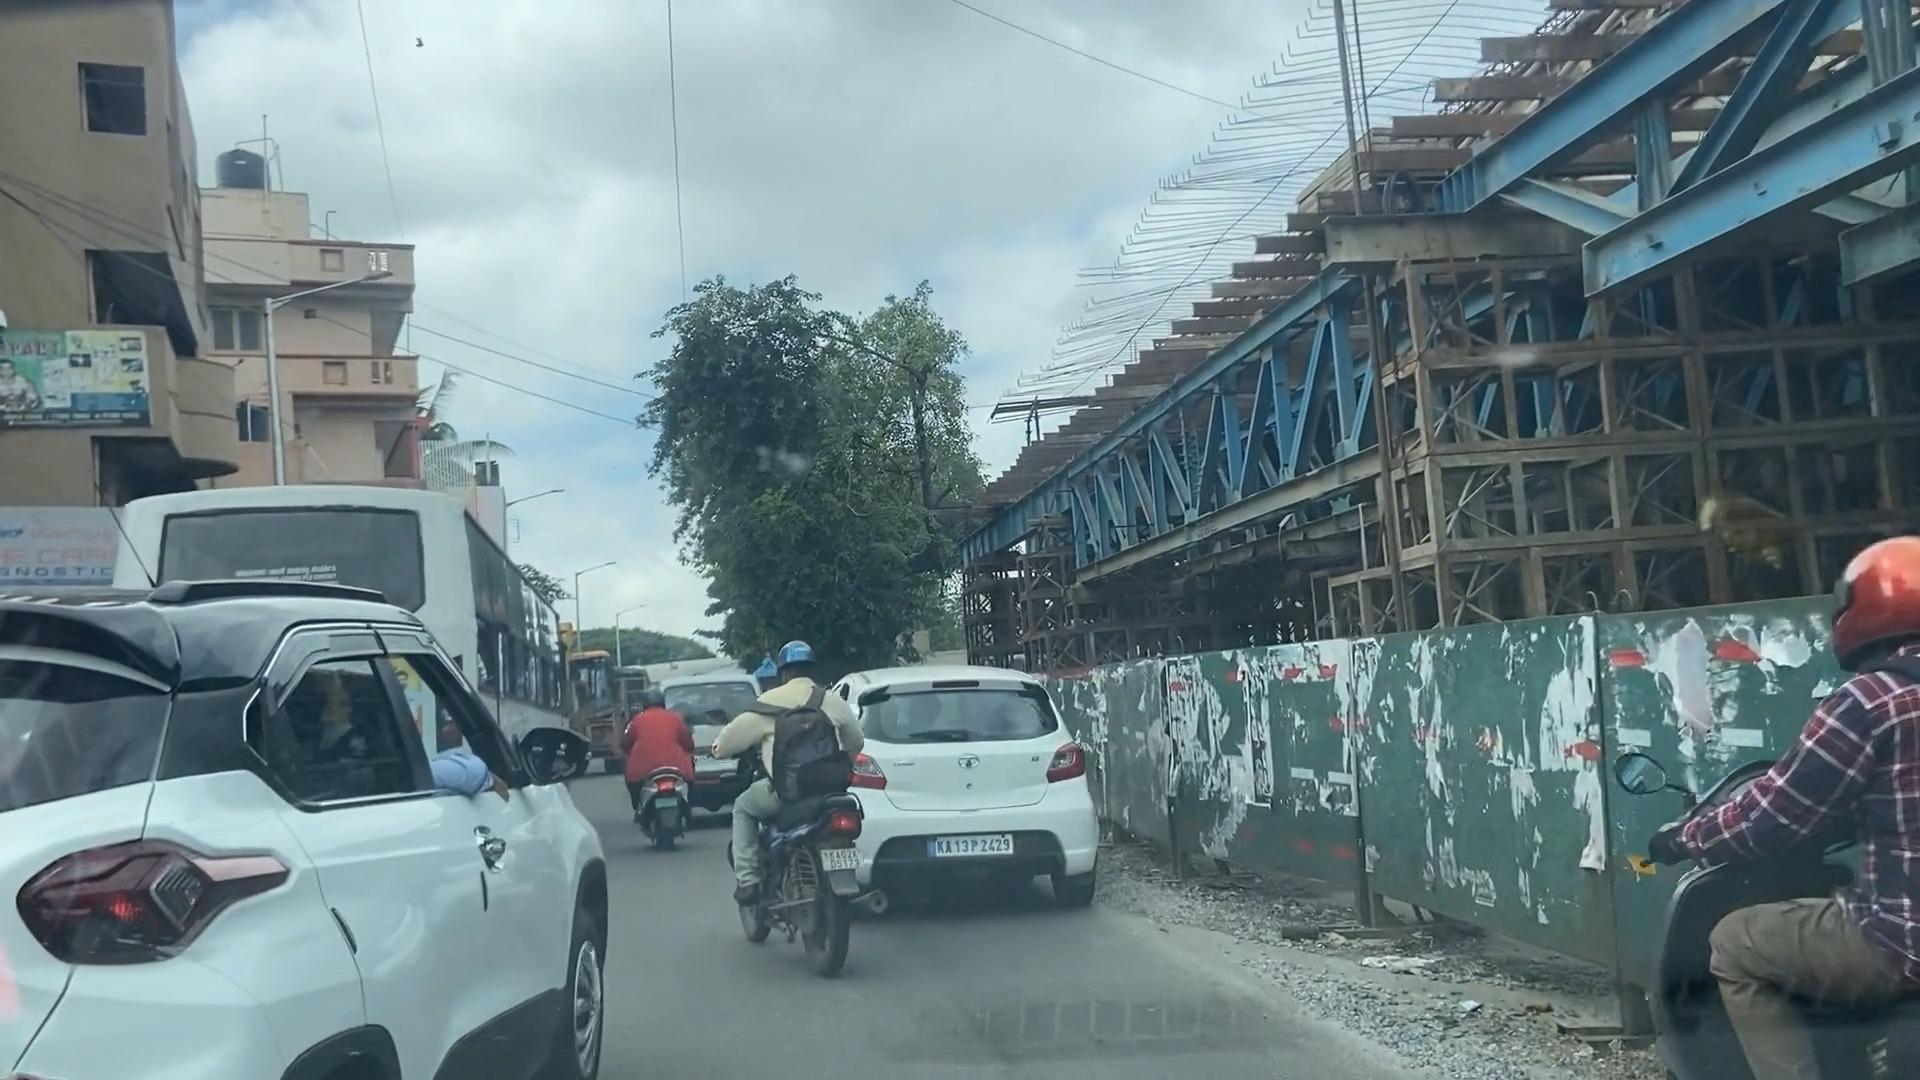LMV: (874, 669, 1096, 930), (752, 628, 861, 982), (620, 686, 702, 843)
